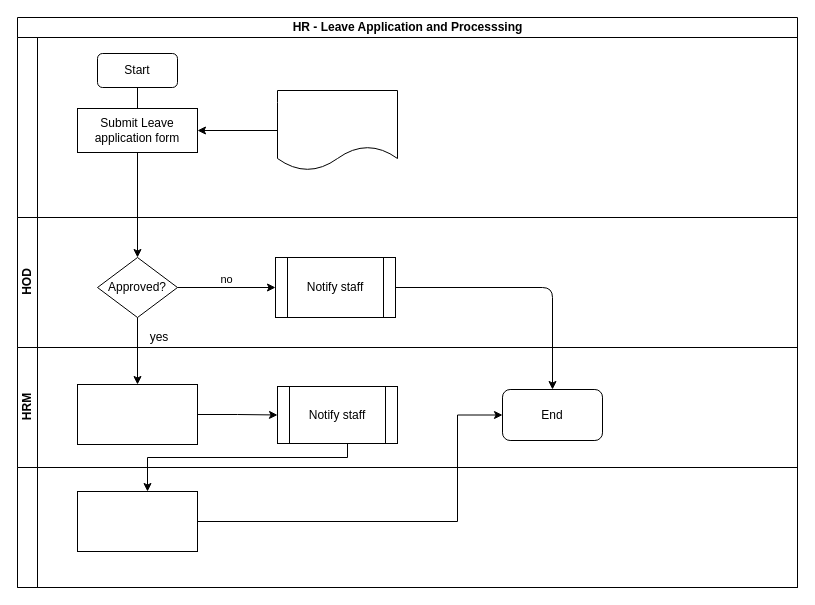
The diagram is 815 pixels wide and 605 high, and some of its shapes have lost their labels. The shapes that lost their labels are listed below. From the top down, each one's box as (x1, y1, x2, y2) in pixels, then its label:
(276, 90, 398, 170): Continuity notes
(16, 36, 798, 218): Staff
(76, 384, 198, 444): Confirmation by HR/CEO
(76, 490, 198, 552): Processing of leave related dues
(16, 466, 798, 588): Finance
